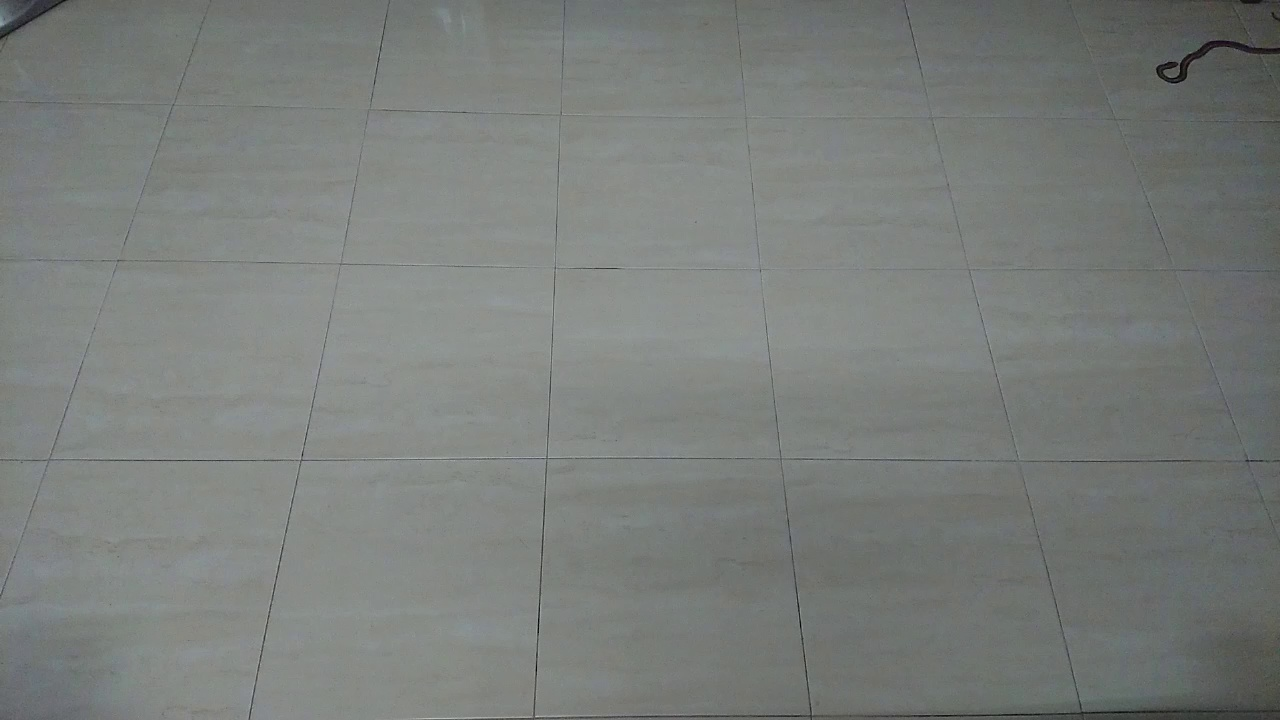snake: (1147, 22, 1280, 98)
